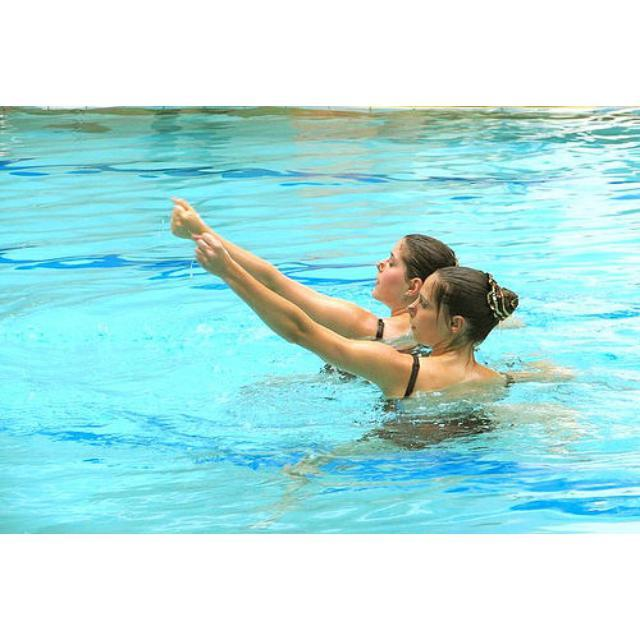human: (194, 233, 535, 405), (167, 186, 457, 356)
